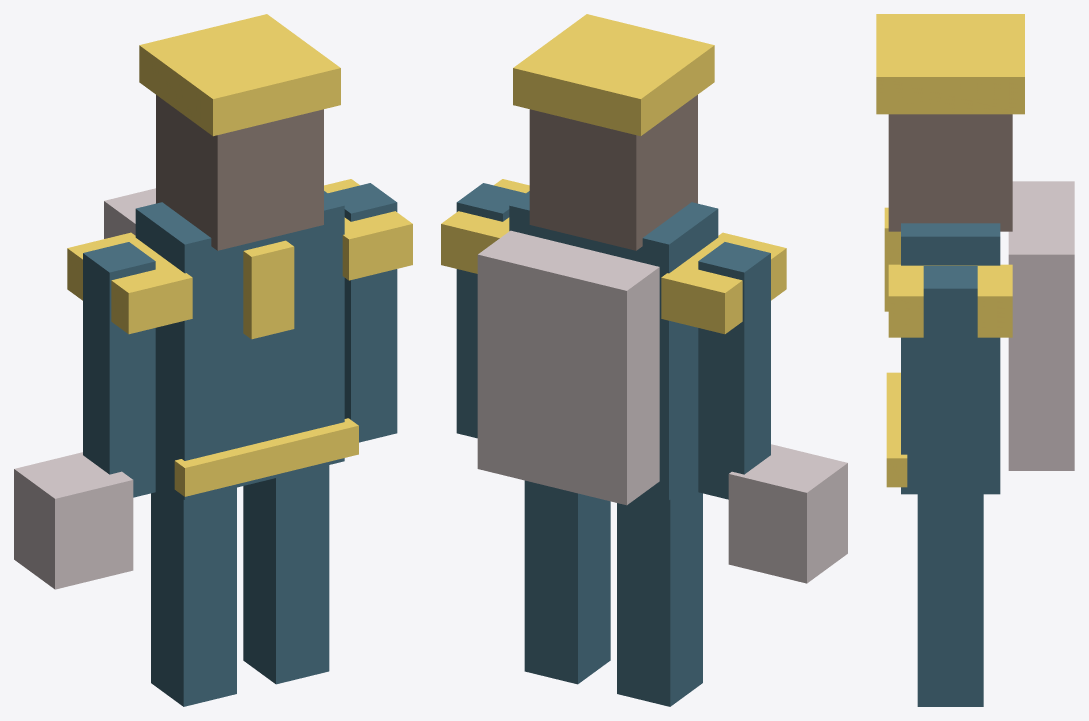
Rendered from 03_nyra_dubwater_diver_near_arrival.glb.
3 renders of one model, left to right at view 1: azimuth 30°, elevation 25°; view 2: azimuth 150°, elevation 25°; view 3: azimuth 270°, elevation 25°, orthographic.
Parts seen in each view (by area): view 1: Nyra Dubwater, Diver near Arrival; view 2: Nyra Dubwater, Diver near Arrival; view 3: Nyra Dubwater, Diver near Arrival.
Boxes of the visible parts, box(x1,y1,x2,y2) form: Nyra Dubwater, Diver near Arrival: box(14, 14, 412, 706); Nyra Dubwater, Diver near Arrival: box(441, 14, 847, 706); Nyra Dubwater, Diver near Arrival: box(876, 14, 1074, 706).
Size of the model in its own units: 0.9188 by 1.54 by 0.4432.
